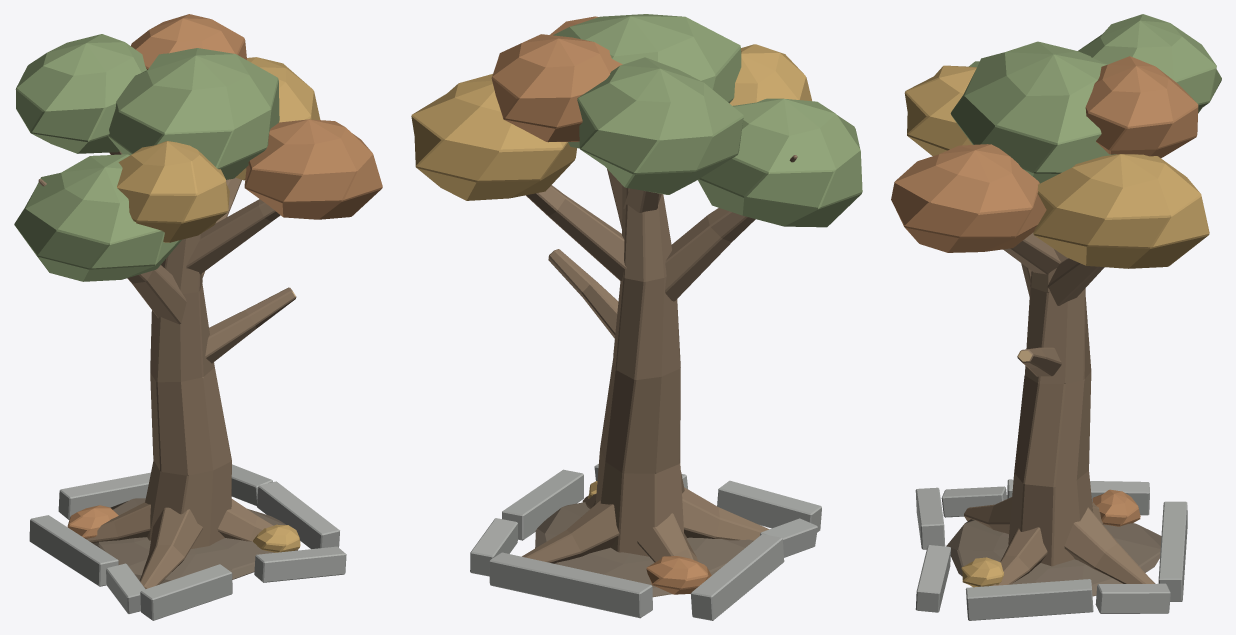
File: Apoc_Tree_01_Withered_Street_Oak.fbx
3 renders of one model, left to right at view 1: azimuth 30°, elevation 25°; view 2: azimuth 150°, elevation 25°; view 3: azimuth 270°, elevation 25°, orthographic. The views are drawn at different scales.
Parts seen in each view (by area): view 1: Apoc_Tree_01_Withered_Street_Oak; view 2: Apoc_Tree_01_Withered_Street_Oak; view 3: Apoc_Tree_01_Withered_Street_Oak.
Part boxes in pixels (left/top/right/bottom): Apoc_Tree_01_Withered_Street_Oak: left=14, top=14, right=382, bottom=620; Apoc_Tree_01_Withered_Street_Oak: left=411, top=14, right=862, bottom=620; Apoc_Tree_01_Withered_Street_Oak: left=891, top=14, right=1221, bottom=620.
Bounding box in the file's own units: 2.73 × 3.87 × 2.24.
